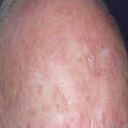Actinic: (12, 85, 75, 120), (82, 48, 116, 80)
